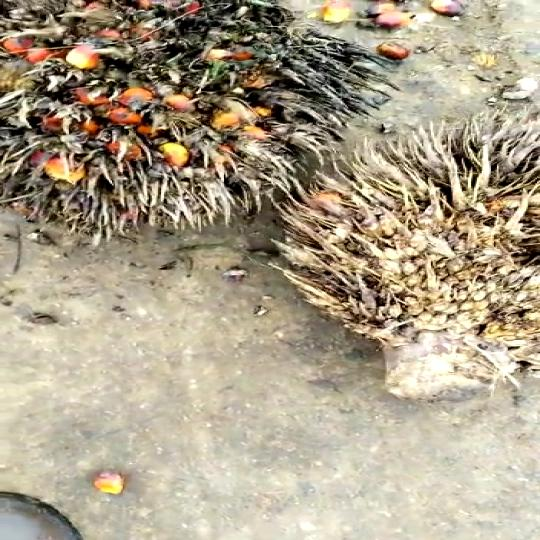terlalu masak: (0, 0, 414, 248), (261, 119, 540, 403)
